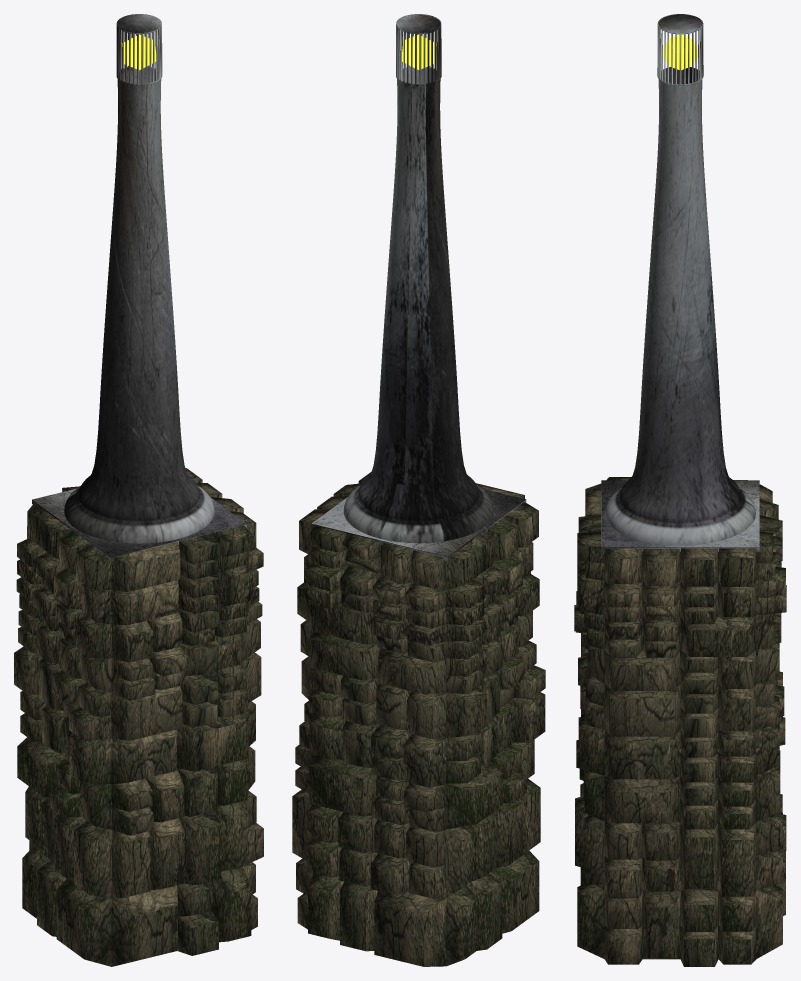
The model's file is beacon.glb.
3 renders of one model, left to right at view 1: azimuth 30°, elevation 25°; view 2: azimuth 150°, elevation 25°; view 3: azimuth 270°, elevation 25°, orthographic.
Visible parts, largest first — view 1: discombobulated_mesh, Plane, Plane.001, Plane.002, Icosphere; view 2: discombobulated_mesh, Plane, Plane.001, Plane.002, Icosphere; view 3: discombobulated_mesh, Plane, Plane.002, Plane.001, Icosphere.
Boxes of the visible parts, left/top/right/bottom form: discombobulated_mesh: left=14, top=468, right=263, bottom=966; Plane: left=64, top=67, right=214, bottom=543; Plane.001: left=116, top=14, right=162, bottom=85; Plane.002: left=32, top=489, right=246, bottom=561; Icosphere: left=121, top=34, right=156, bottom=70; discombobulated_mesh: left=292, top=472, right=545, bottom=966; Plane: left=343, top=67, right=493, bottom=543; Plane.001: left=396, top=14, right=441, bottom=85; Plane.002: left=311, top=488, right=526, bottom=560; Icosphere: left=402, top=34, right=436, bottom=69; discombobulated_mesh: left=574, top=477, right=786, bottom=966; Plane: left=605, top=68, right=755, bottom=545; Plane.002: left=601, top=480, right=759, bottom=551; Plane.001: left=657, top=14, right=703, bottom=86; Icosphere: left=663, top=35, right=697, bottom=69.
Bounding box in the file's own units: 2.78 × 13.13 × 2.8.
3 materials, 2 textured.
